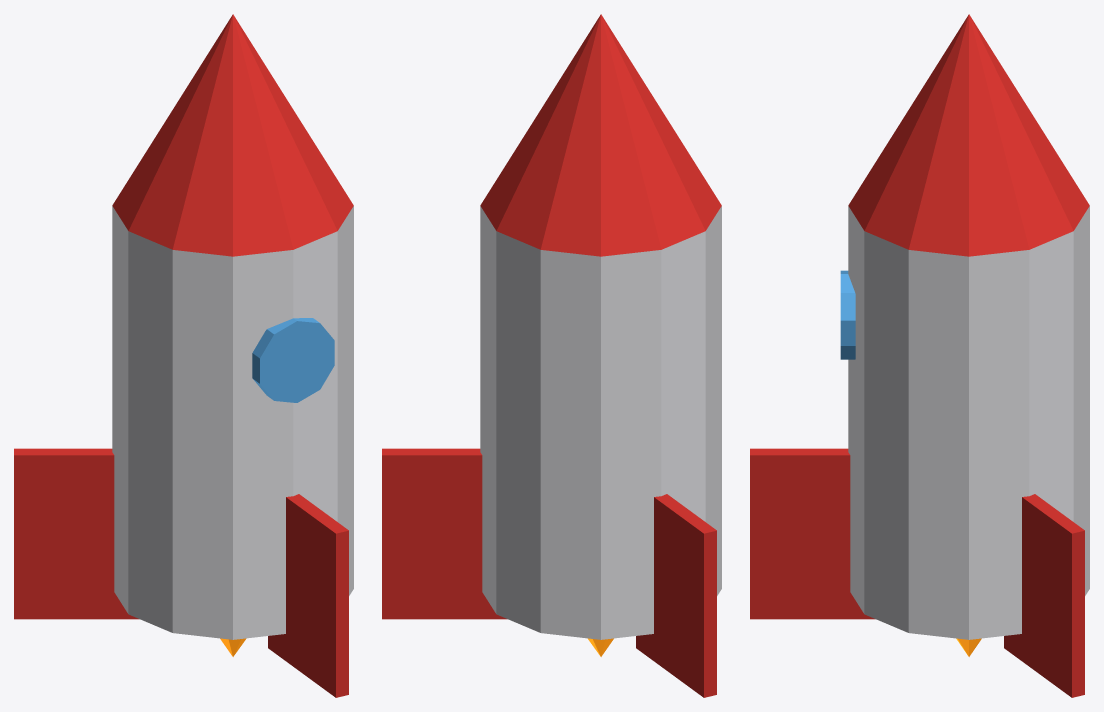
The model's file is float_rocket.glb.
The picture shows the model from 3 angles, left to right: view 1: azimuth 30°, elevation 25°; view 2: azimuth 150°, elevation 25°; view 3: azimuth 270°, elevation 25°; orthographic projection.
Parts seen in each view (by area): view 1: rocket_rocket_white, rocket_rocket_red, fins_rocket_red, rocket_rocket_window; view 2: rocket_rocket_white, rocket_rocket_red, fins_rocket_red; view 3: rocket_rocket_white, rocket_rocket_red, fins_rocket_red, rocket_rocket_window.
Part boxes in pixels (bbox=[...]): rocket_rocket_white: bbox=[112, 206, 353, 639]; rocket_rocket_red: bbox=[112, 14, 353, 256]; fins_rocket_red: bbox=[14, 448, 348, 697]; rocket_rocket_window: bbox=[252, 318, 334, 402]; rocket_rocket_white: bbox=[480, 206, 721, 639]; rocket_rocket_red: bbox=[480, 14, 721, 256]; fins_rocket_red: bbox=[382, 448, 716, 697]; rocket_rocket_white: bbox=[848, 206, 1089, 639]; rocket_rocket_red: bbox=[848, 14, 1089, 256]; fins_rocket_red: bbox=[750, 448, 1084, 697]; rocket_rocket_window: bbox=[840, 270, 855, 359].
Bounding box in the file's own units: 1.28 × 2.35 × 1.13.
